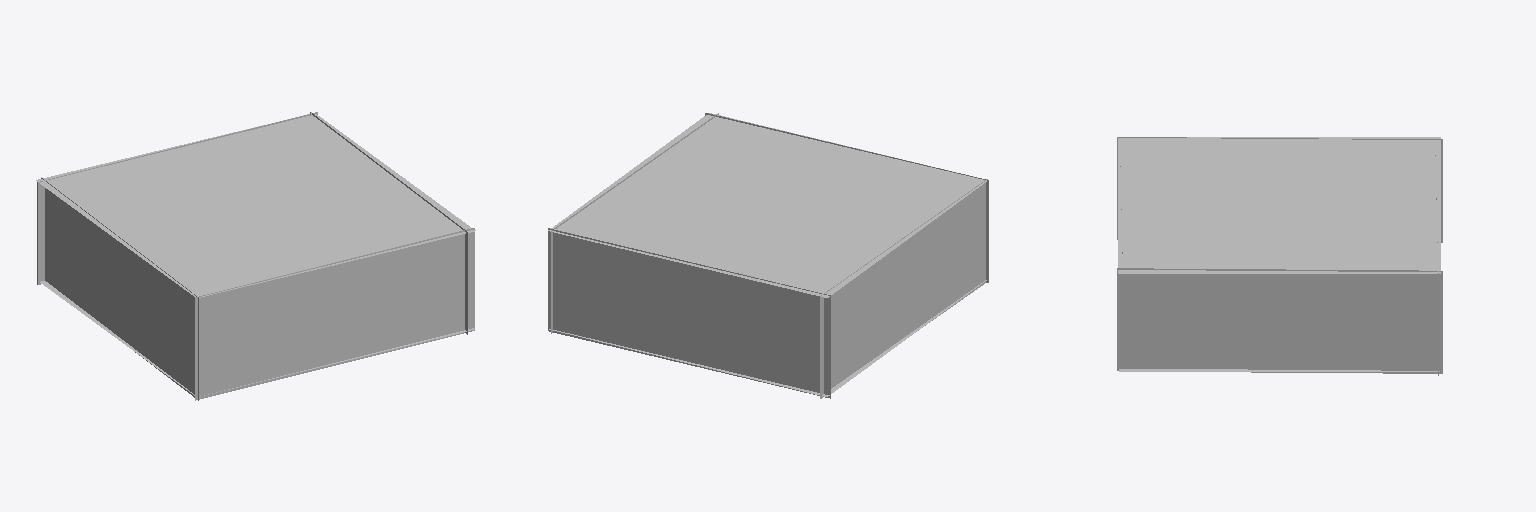
File: Room2.obj
3 renders of one model, left to right at view 1: azimuth 30°, elevation 25°; view 2: azimuth 150°, elevation 25°; view 3: azimuth 270°, elevation 25°, orthographic.
Visible parts, largest first — view 1: Plane.002, Cube.003_Cube.004, Cube.004_Cube.014, Cube.002_Cube.013, Plane.001, Cube.001_Cube.002; view 2: Plane.002, Cube.002_Cube.013, Cube.004_Cube.014, Plane.001, Cube.003_Cube.004; view 3: Plane.002, Cube.001_Cube.002, Plane.001, Cube.004_Cube.014.
Boxes of the visible parts, x1=… form: Plane.002: x1=36, y1=114, x2=475, y2=297; Cube.003_Cube.004: x1=195, y1=228, x2=474, y2=400; Cube.004_Cube.014: x1=41, y1=177, x2=198, y2=400; Cube.002_Cube.013: x1=37, y1=112, x2=317, y2=284; Plane.001: x1=40, y1=281, x2=474, y2=396; Cube.001_Cube.002: x1=310, y1=112, x2=467, y2=334; Plane.002: x1=548, y1=113, x2=986, y2=297; Cube.002_Cube.013: x1=548, y1=228, x2=830, y2=398; Cube.004_Cube.014: x1=820, y1=179, x2=987, y2=398; Plane.001: x1=549, y1=280, x2=986, y2=396; Cube.003_Cube.004: x1=705, y1=113, x2=988, y2=282; Plane.002: x1=1118, y1=137, x2=1440, y2=273; Cube.001_Cube.002: x1=1117, y1=268, x2=1442, y2=373; Plane.001: x1=1119, y1=369, x2=1439, y2=371; Cube.004_Cube.014: x1=1117, y1=137, x2=1442, y2=242.
Bounding box in the file's own units: 108 × 37.94 × 108.